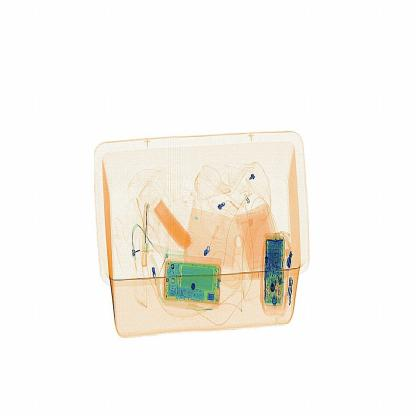pliers: (134, 198, 155, 274)
